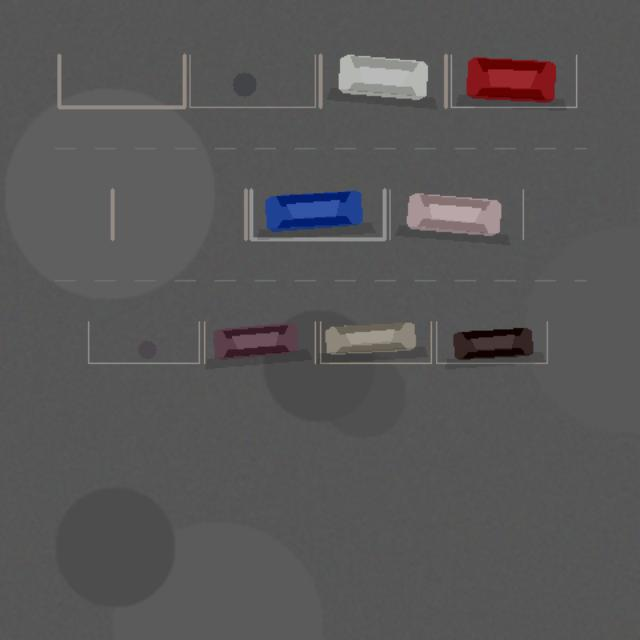space-empty: (112, 189, 245, 239), (189, 55, 315, 107), (59, 55, 184, 107), (88, 321, 199, 363)
space-occupied: (389, 189, 523, 239), (251, 189, 384, 239), (320, 55, 445, 107), (451, 55, 576, 107), (204, 321, 315, 363), (320, 321, 431, 363), (436, 321, 547, 363)
